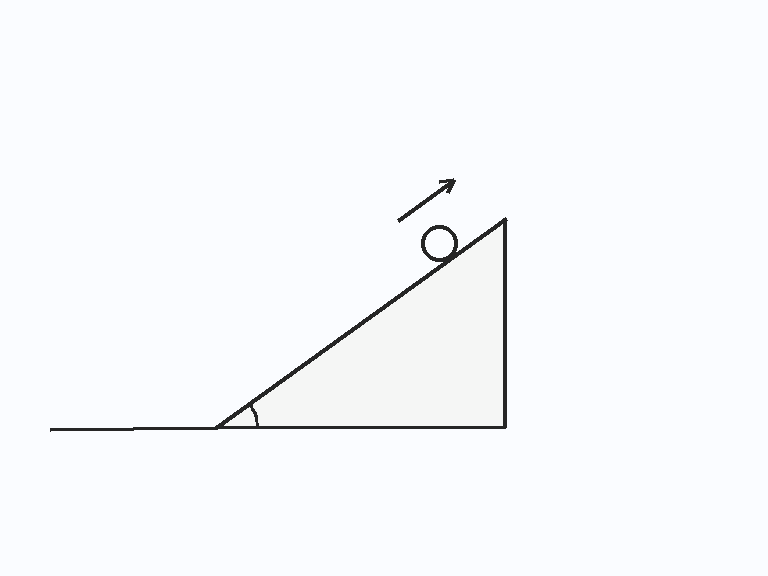ball: (419, 223, 459, 263)
ramp: (215, 216, 507, 429)
